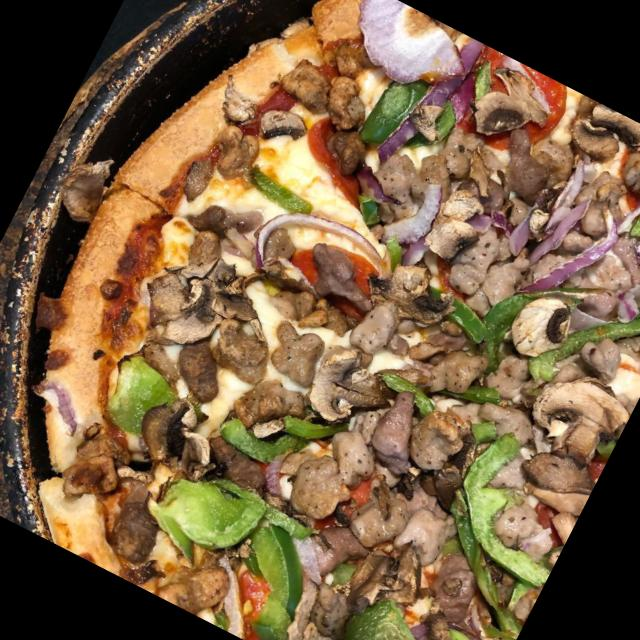mushrooms: (115, 228, 262, 371), (514, 360, 636, 480), (288, 332, 403, 447), (128, 382, 234, 490), (336, 527, 441, 636), (354, 246, 464, 345), (464, 59, 558, 160), (512, 438, 602, 523), (499, 286, 586, 373), (560, 95, 640, 178), (422, 180, 492, 264), (48, 147, 115, 225), (270, 586, 365, 640), (257, 100, 317, 155), (213, 77, 265, 130)
peppers: (432, 426, 596, 592), (126, 447, 270, 582), (208, 515, 331, 640), (216, 376, 342, 492), (548, 251, 640, 401), (340, 52, 438, 159), (95, 348, 184, 445), (319, 589, 487, 640), (406, 278, 498, 348), (243, 163, 319, 223), (446, 361, 511, 419), (374, 364, 440, 416), (460, 410, 504, 451), (621, 180, 640, 254)
pizza: (38, 0, 640, 640)
